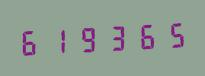five: (158, 17, 185, 51)
nine: (74, 21, 101, 56)
one: (45, 22, 72, 57)
six: (130, 18, 157, 53), (17, 24, 44, 58)
three: (102, 20, 129, 54)
